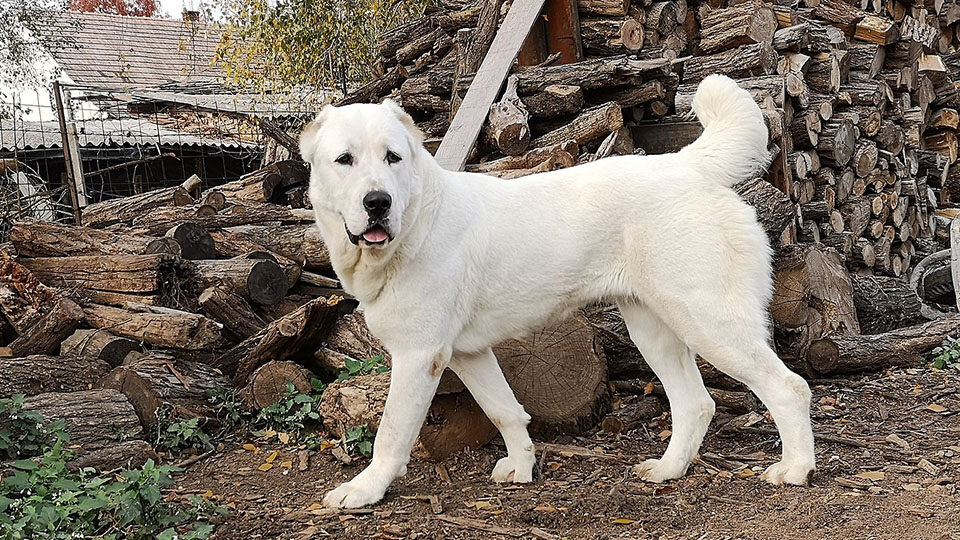dog: (301, 72, 833, 511)
